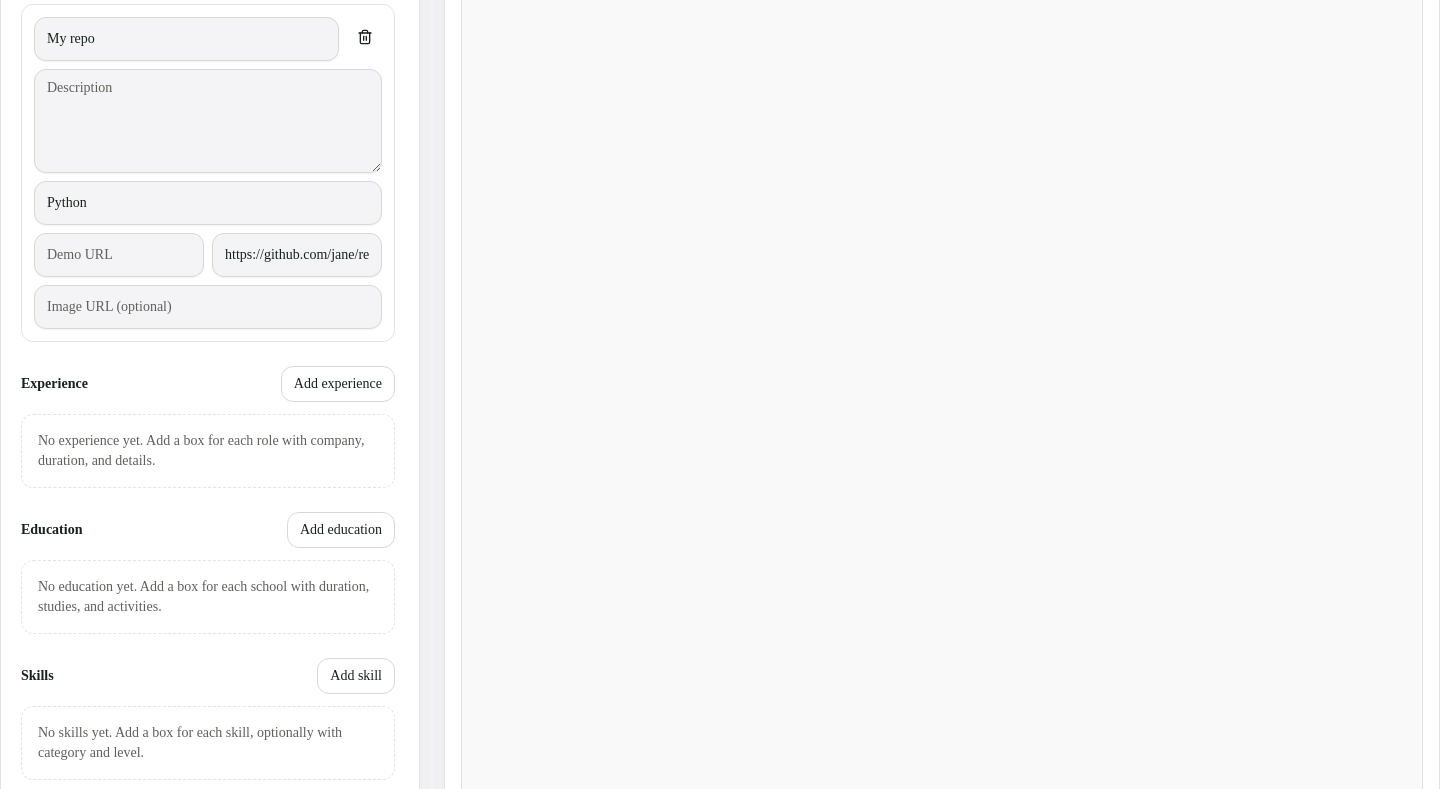
Scenario: PortfolioEditor (Portfolio Studio) › adds experience, education, and skill boxes
(page scrolled)
Click the button "Add experience" at coordinates (338, 384), box top-left (281, 366), bottom-right (395, 402)
(page scrolled)
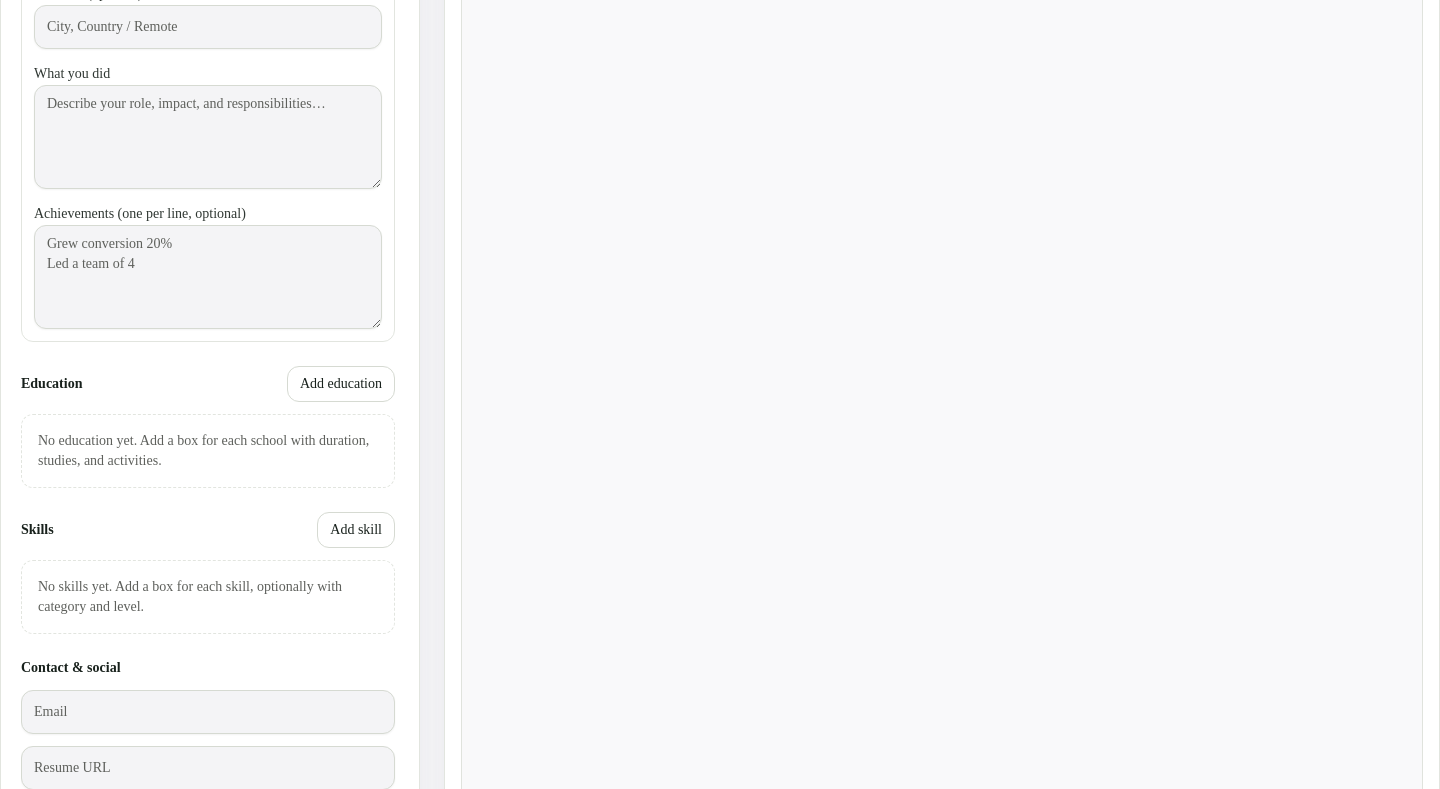
Click the button "Add education" at coordinates (341, 384), box top-left (287, 366), bottom-right (395, 402)
(page scrolled)
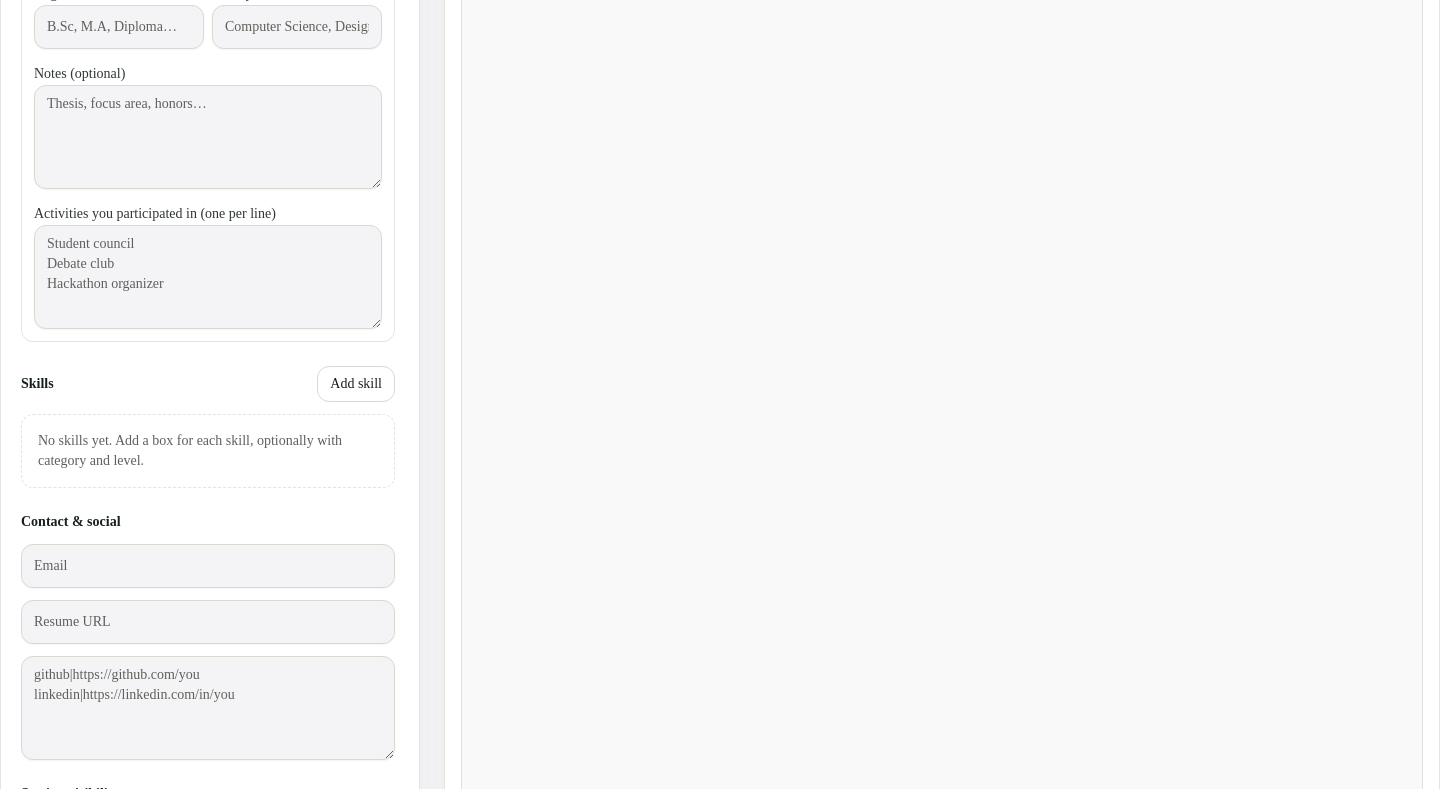
Click the button "Add skill" at coordinates (356, 384), box top-left (317, 366), bottom-right (395, 402)
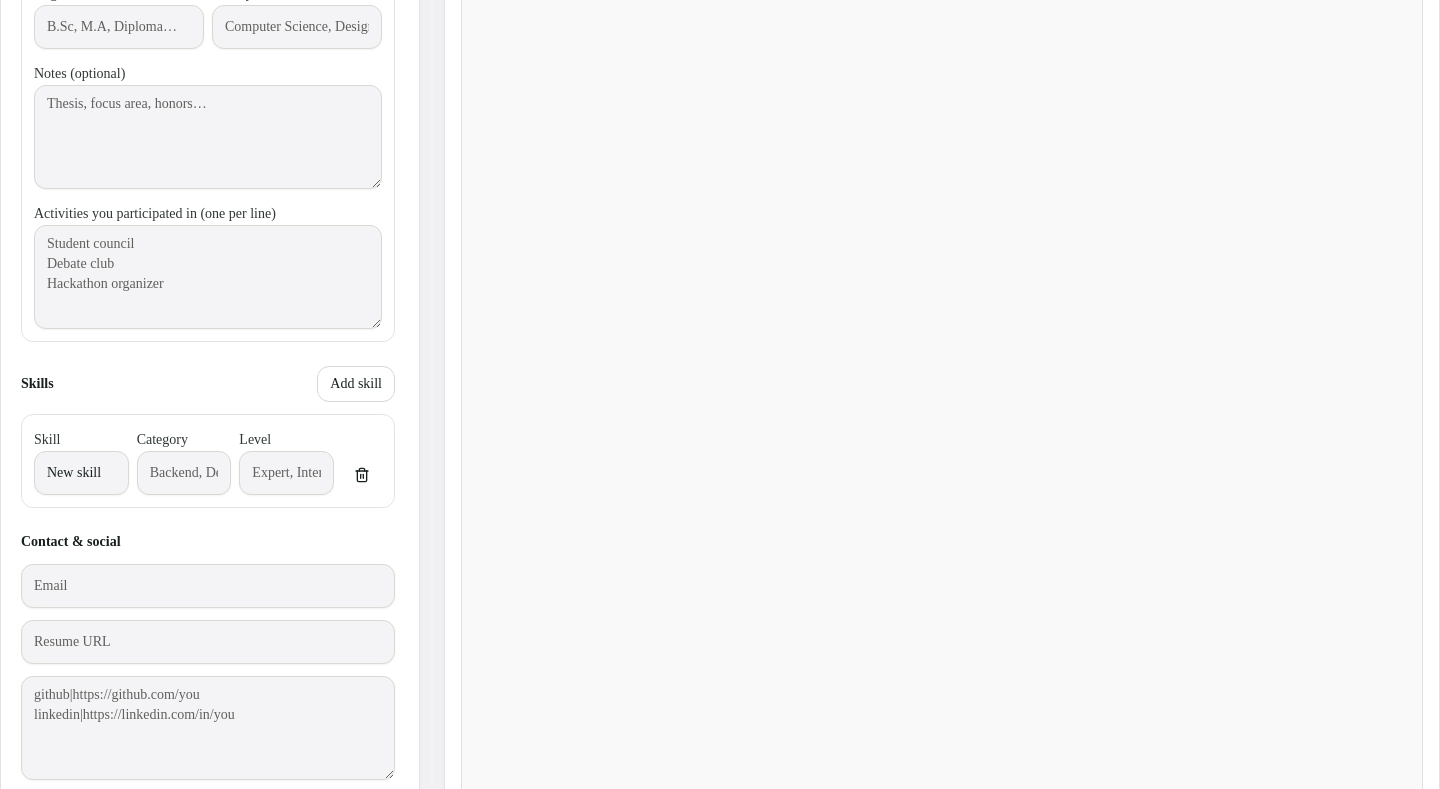
Check: the field showing "New skill" is shown, box top-left (34, 451), bottom-right (129, 495)
